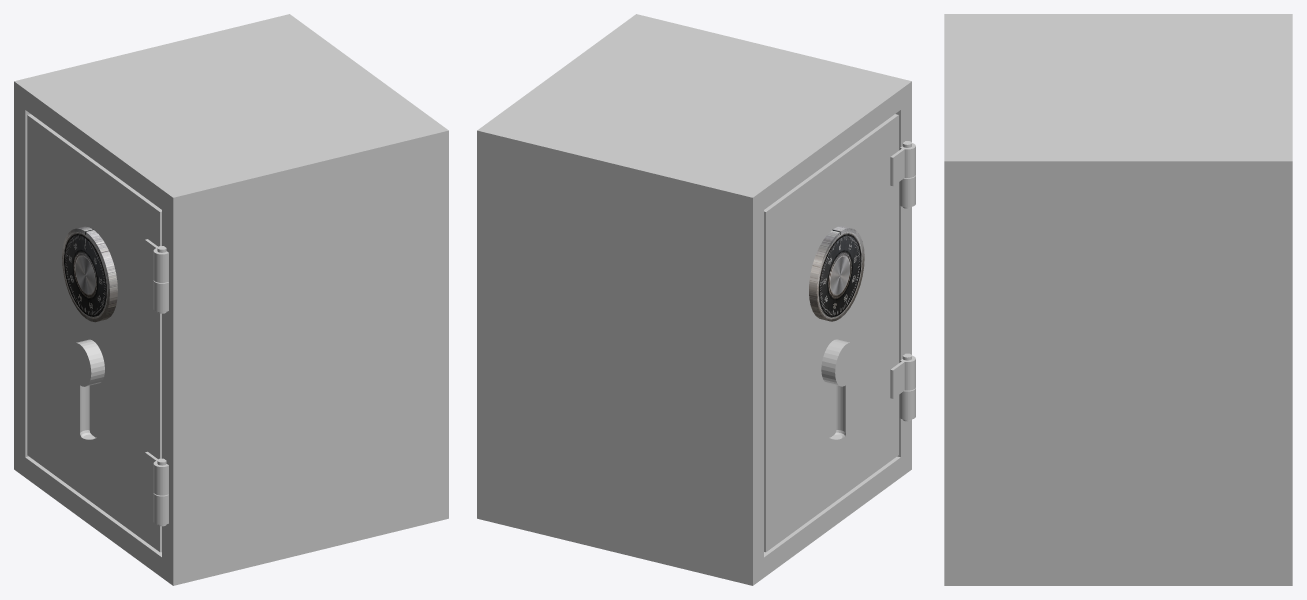
The model's file is cofre.glb.
The picture shows the model from 3 angles, left to right: view 1: azimuth 30°, elevation 25°; view 2: azimuth 150°, elevation 25°; view 3: azimuth 270°, elevation 25°; orthographic projection. The views are drawn at different scales.
Parts seen in each view (by area): view 1: Cylinder; view 2: Cylinder; view 3: Cylinder.
Boxes of the visible parts, x1,y1,x2,y2 form: Cylinder: [14, 14, 448, 585]; Cylinder: [477, 14, 915, 585]; Cylinder: [944, 14, 1292, 585].
Size of the model in its own units: 0.5693 by 0.7293 by 0.5422.
1 material, 1 textured.
